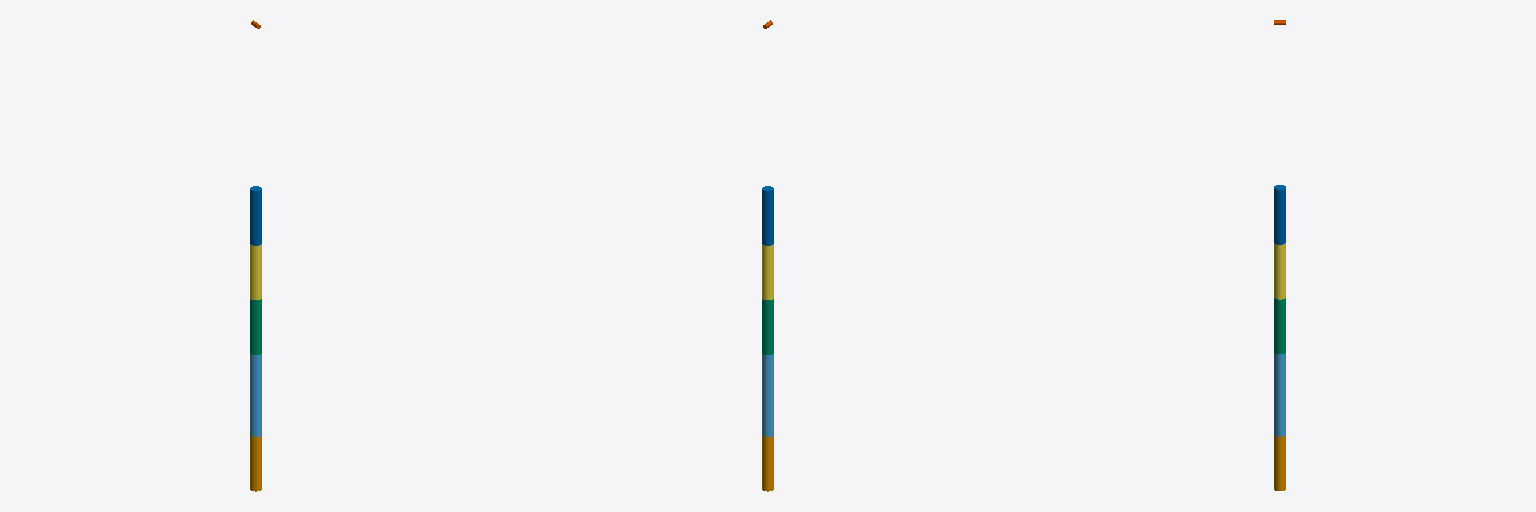
The robot description file, URDF, robot "cylinder_bot":
<?xml version="1.0"?>
<robot name="cylinder_bot">

  <!-- Link 0 -->
  <link name="base_link">
    <visual>
      <origin xyz="0 0 0.25" rpy="0 0 0"/>
      <geometry>
        <cylinder radius="0.05" length="0.5"/>
      </geometry>
    </visual>
  </link>


  <!-- Joint 1: Z rotation -->
  <link name="link1">
    <visual>
      <origin xyz="0 0 0.375" rpy="0 0 0"/>
      <geometry>
        <cylinder radius="0.05" length="0.75"/>
      </geometry>
    </visual>
  </link>



  <joint name="joint1" type="revolute">
    <parent link="base_link"/>
    <child link="link1"/>
    <origin xyz="0 0 0.5" rpy="0 0 0"/>
    <axis xyz="0 0 1"/>
    <limit effort="1.0" velocity="1.0" lower="-1.57" upper="1.57"/>
  </joint>


  <!-- Joint 2: X rotation -->
  <joint name="joint2" type="revolute">
    <parent link="link1"/>
    <child link="link2"/>
    <origin xyz="0 0 0.75" rpy="0 0 0"/>
    <axis xyz="1 0 0"/>
    <limit effort="1.0" velocity="1.0" lower="-1.57" upper="1.57"/>
  </joint>

  <link name="link2">
    <visual>
      <origin xyz="0 0 0.25" rpy="0 0 0"/>
      <geometry>
        <cylinder radius="0.05" length="0.5"/>
      </geometry>
    </visual>
  </link>

  <!-- Joint 3: X rotation -->
  <joint name="joint3" type="revolute">
    <parent link="link2"/>
    <child link="link3"/>
    <origin xyz="0 0 0.5" rpy="0 0 0"/>
    <axis xyz="1 0 0"/>
    <limit effort="1.0" velocity="1.0" lower="-1.57" upper="1.57"/>
  </joint>

  <link name="link3">
    <visual>
      <origin xyz="0 0 0.25" rpy="0 0 0"/>
      <geometry>
        <cylinder radius="0.05" length="0.5"/>
      </geometry>
    </visual>
  </link>

  <!-- Joint 4: Z rotation -->
  <joint name="joint4" type="revolute">
    <parent link="link3"/>
    <child link="link4"/>
    <origin xyz="0 0 0.5" rpy="0 0 0"/>
    <axis xyz="0 0 1"/>
    <limit effort="1.0" velocity="1.0" lower="-1.57" upper="1.57"/>
  </joint>

  <link name="link4">
    <visual>
      <origin xyz="0 0 0.25" rpy="0 0 0"/>
      <geometry>
        <cylinder radius="0.05" length="0.5"/>
      </geometry>
    </visual>
  </link>

  <!-- Joint 5: fixed motor cylinder on side -->
  <joint name="joint5" type="revolute">
    <parent link="link4"/>
    <child link="motor_link"/>
    <origin xyz="0 0 1" rpy="0 0 0"/>
    <limit effort="1.0" velocity="1.0" lower="-1.57" upper="1.57"/>
  </joint>

  <link name="motor_link">
    <visual>
      <origin xyz="0 0 1" rpy="1.5708 0 0"/>
      <geometry>
        <cylinder radius="0.02" length="0.1"/>
      </geometry>
    </visual>
  </link>

</robot>

--- What the picture shows (computed from the rendered views, not written in the file) ---
3 views of the same robot in one strip: view 1: azimuth 30°, elevation 25°; view 2: azimuth 150°, elevation 25°; view 3: azimuth 270°, elevation 25° (orthographic).
Model cylinder_bot with 6 links and 5 joints (5 revolute), rooted at base_link, posed every joint at zero.
Visible links, largest first — view 1: link1, link4, link2, base_link, link3; view 2: link1, link4, link2, base_link, link3; view 3: link1, link4, link3, base_link, link2.
Boxes of the visible links, box(x1,y1,x2,y2) form: link1: box(250, 354, 261, 436); link4: box(250, 186, 261, 245); link2: box(250, 299, 261, 354); base_link: box(250, 435, 261, 491); link3: box(250, 244, 261, 299); link1: box(762, 354, 773, 436); link4: box(762, 186, 773, 245); link2: box(762, 299, 773, 354); base_link: box(762, 435, 773, 491); link3: box(762, 244, 773, 299); link1: box(1274, 353, 1285, 436); link4: box(1274, 185, 1285, 244); link3: box(1274, 243, 1285, 299); base_link: box(1274, 435, 1285, 490); link2: box(1274, 298, 1285, 353).
Bounding box of the posed robot: 0.1 × 0.1 × 4.27 m (x, y, z).
Geometry: primitives only (box / cylinder / sphere), no mesh files.
